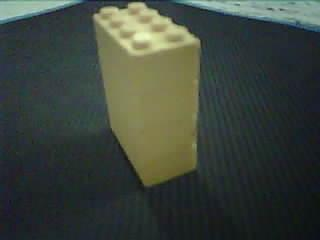lego: (91, 1, 202, 187)
